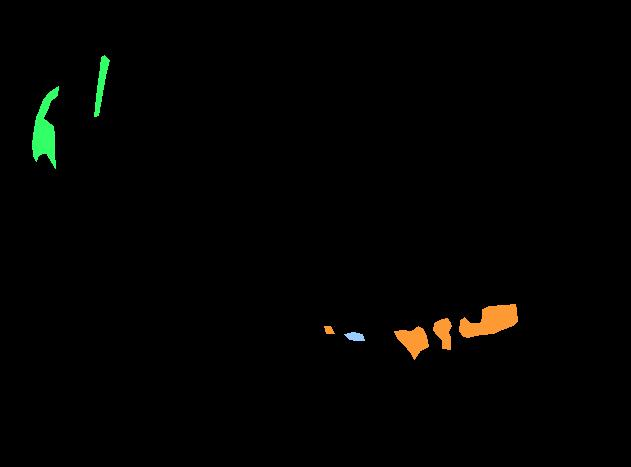Broken part: (32, 86, 58, 168), (94, 55, 109, 116)
Corrosion: (344, 332, 364, 340)
Paint chip: (459, 304, 517, 337), (394, 326, 428, 359), (433, 318, 451, 349), (324, 326, 334, 333)
